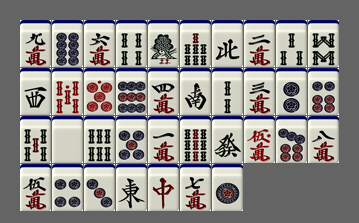0m: (244, 116, 275, 163)
0p: (84, 68, 115, 115)
0s: (52, 68, 83, 115)
1m: (148, 116, 179, 163)
1p: (212, 164, 243, 211)
1s: (148, 20, 179, 67)
1z: (116, 164, 147, 211)
2m: (244, 20, 275, 67)
2p: (276, 68, 307, 115)
2s: (212, 68, 243, 115)
2z: (180, 68, 211, 115)
3m: (244, 68, 275, 115)
3p: (84, 164, 115, 211)
3s: (276, 20, 307, 67)
3z: (20, 68, 51, 115)
4m: (148, 68, 179, 115)
4p: (52, 164, 83, 211)
4s: (116, 20, 147, 67)
4z: (212, 20, 243, 67)
5m: (20, 164, 51, 211)
5p: (116, 116, 147, 163)
5s: (20, 116, 51, 163)
5z: (52, 116, 83, 163)
6m: (84, 20, 115, 67)
6p: (308, 68, 339, 115)
6s: (84, 116, 115, 163)
6z: (212, 116, 243, 163)
7m: (180, 164, 211, 211)
7p: (276, 116, 307, 163)
7s: (180, 20, 211, 67)
7z: (148, 164, 179, 211)
8m: (308, 116, 339, 163)
8p: (52, 20, 83, 67)
8s: (308, 20, 339, 67)
9m: (20, 20, 51, 67)
9p: (116, 68, 147, 115)
9s: (180, 116, 211, 163)
